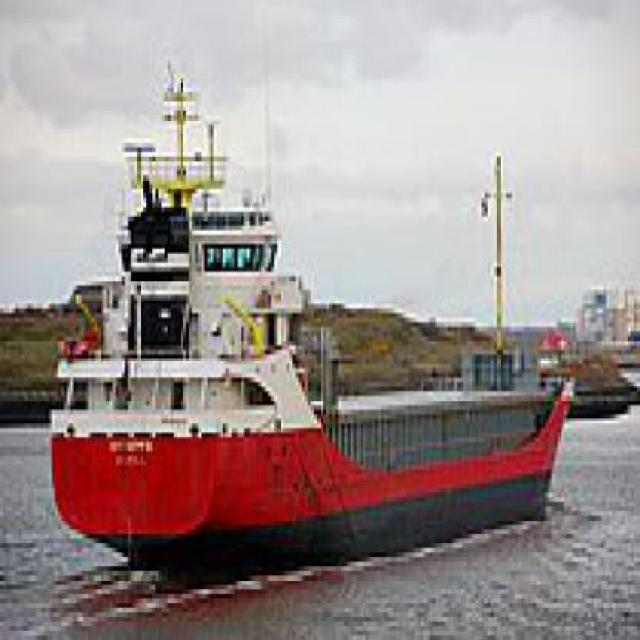container: (44, 52, 581, 595)
